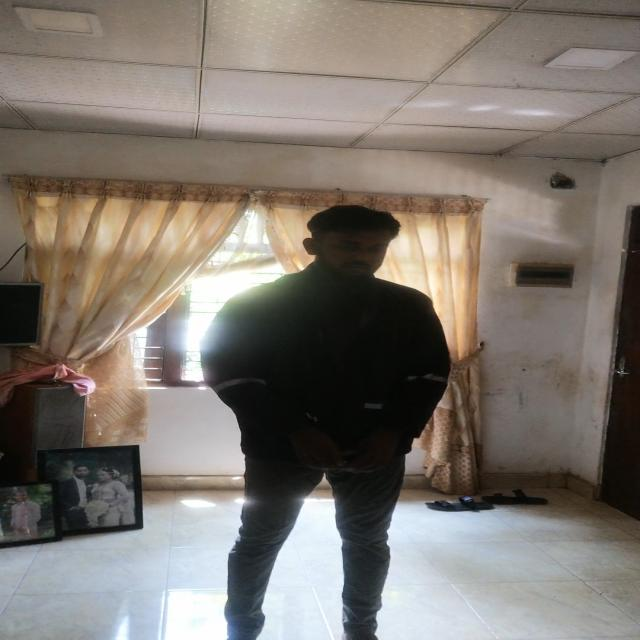Jacket_Wearer: (206, 268, 450, 477)
Person: (203, 204, 449, 640)
